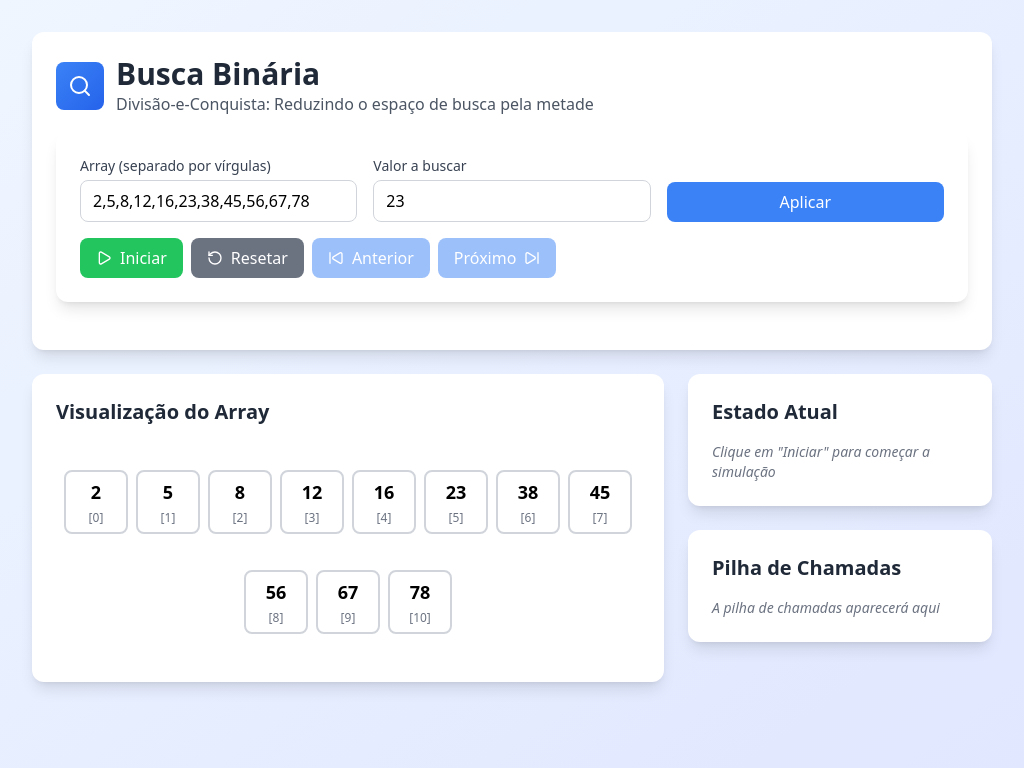
BinarySearchSimulator Integration › should start simulation and show first step
The image size is (1024, 768).
Click the button "Iniciar" at (131, 258), box [80,238,183,278]
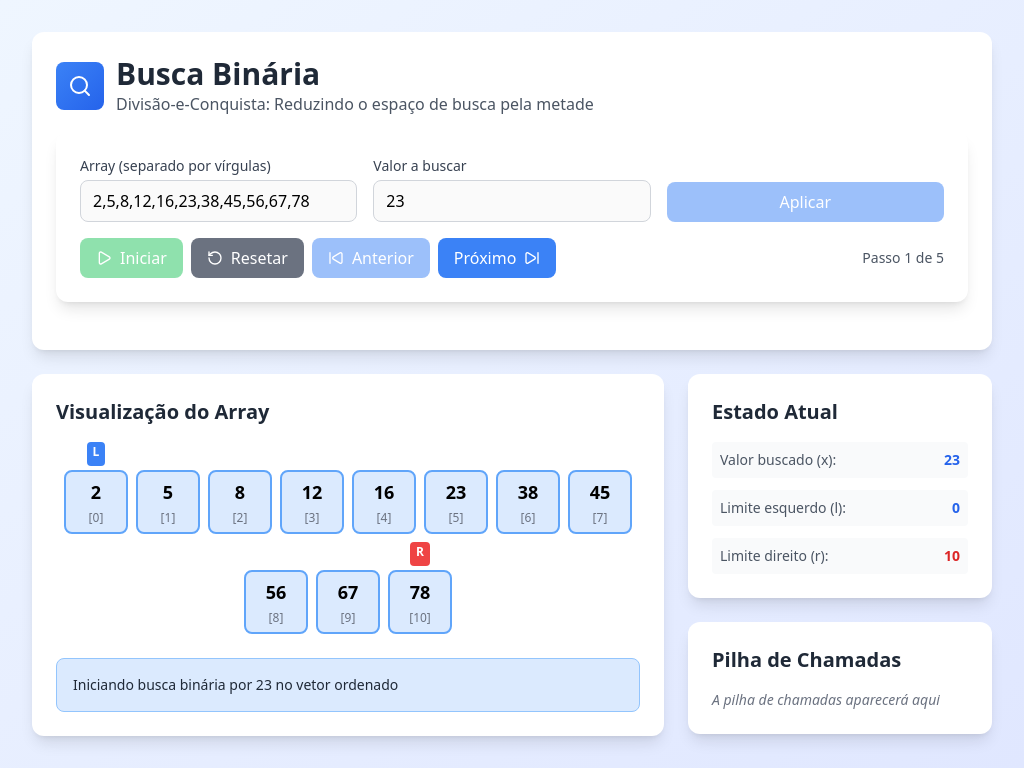
Result: the text "Iniciando busca binária por 23 no vetor ordenado" is shown at [73,675,398,694]
